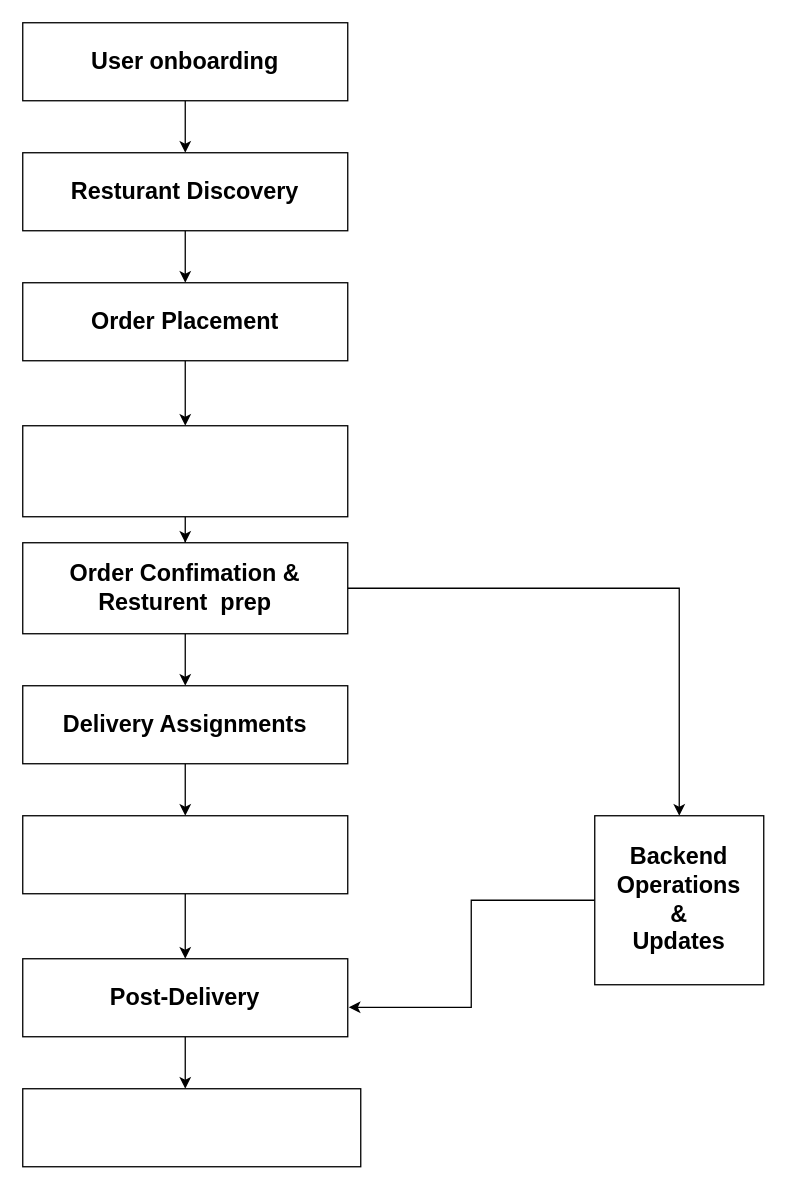
Some shapes in this 787 by 1190 pixel diagram are drawn without their labels. The centre of each missing label's shape, as x and y in pixels:
"Feed back loop & Update" goes at (191,1127).
"Payment Process" goes at (184,470).
"Pickup & Delivery" goes at (184,854).
